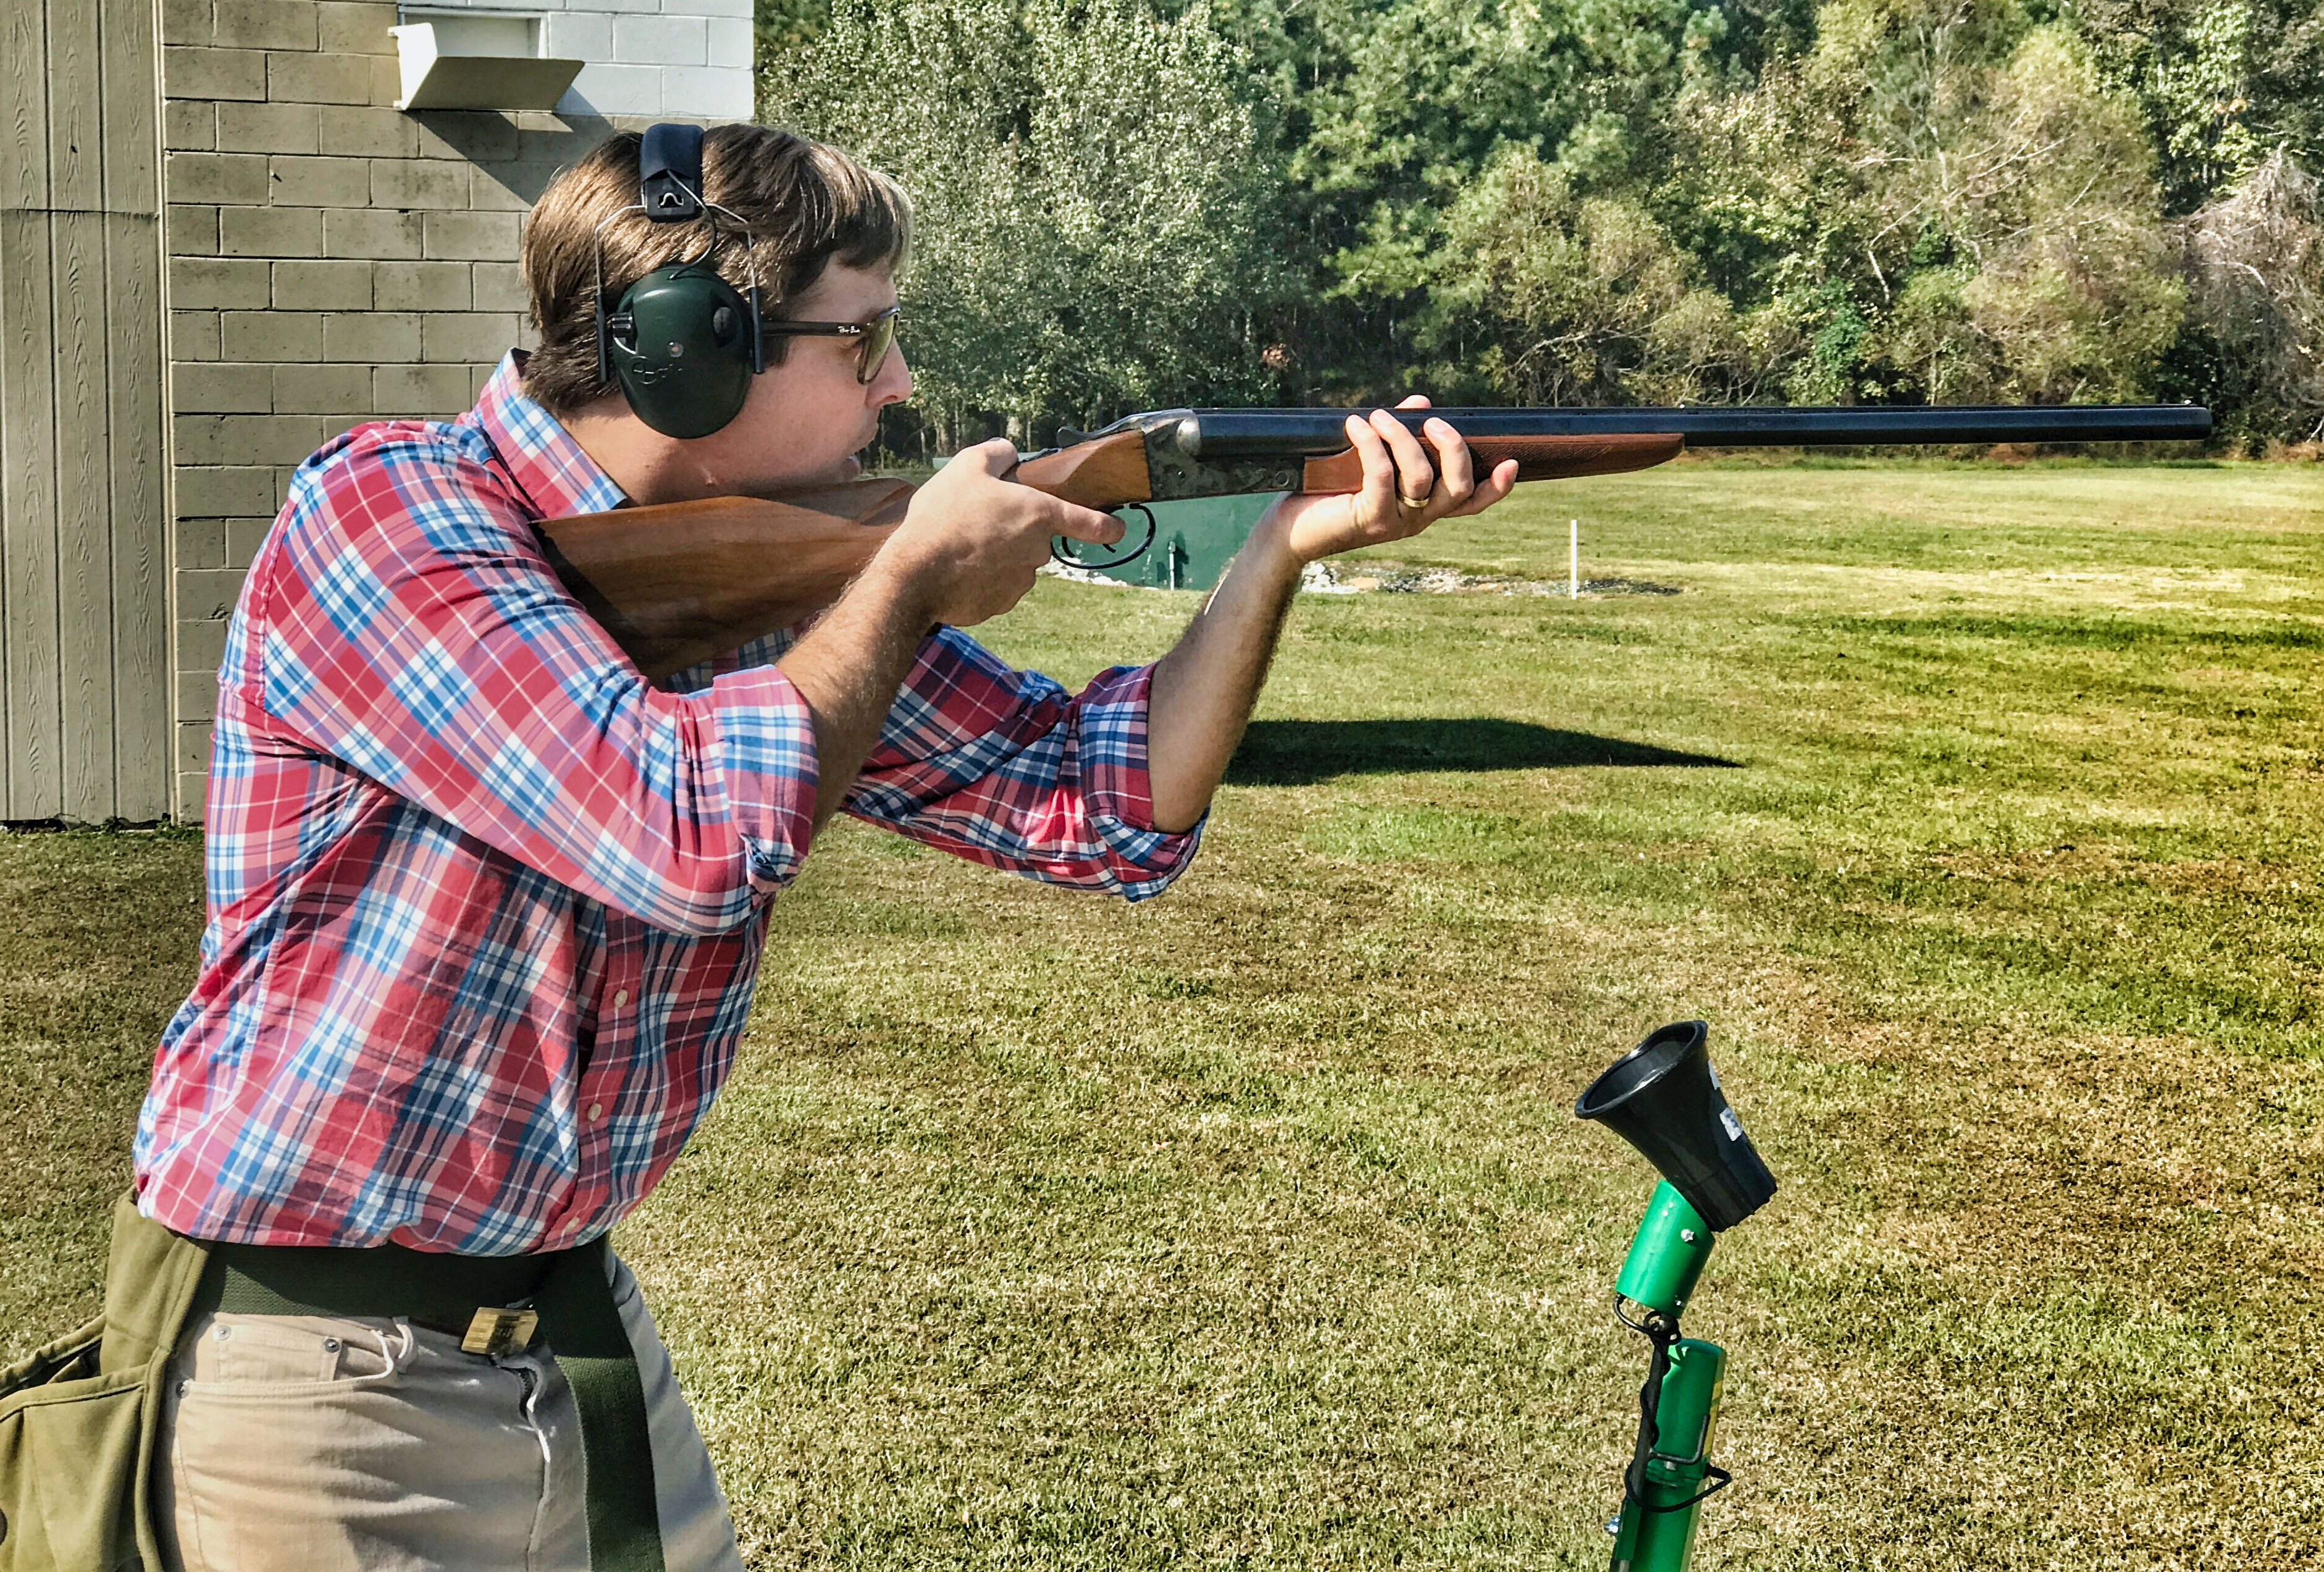gun: (516, 397, 2201, 682)
